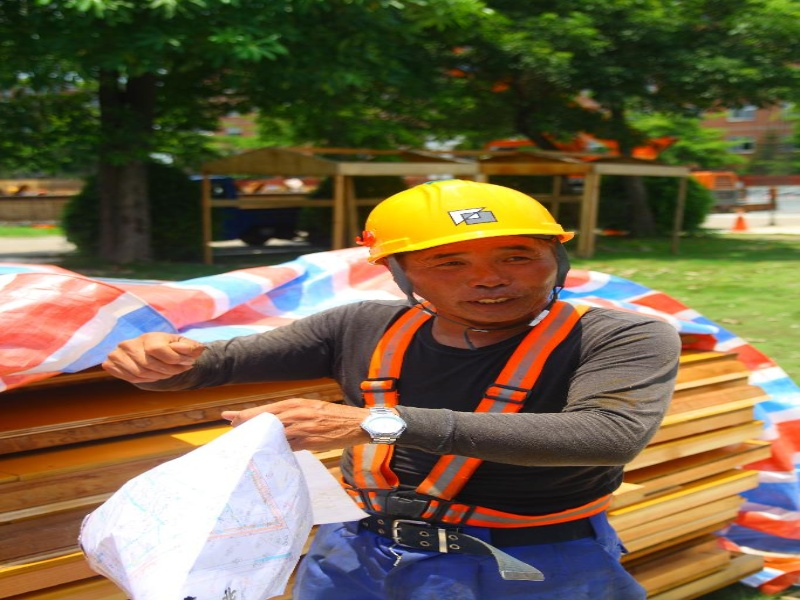Baret: (361, 175, 576, 259)
